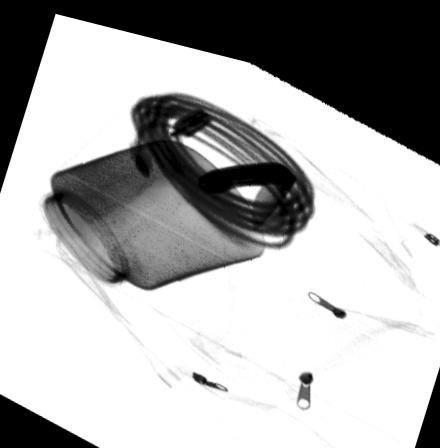Knife: (193, 147, 299, 220)
